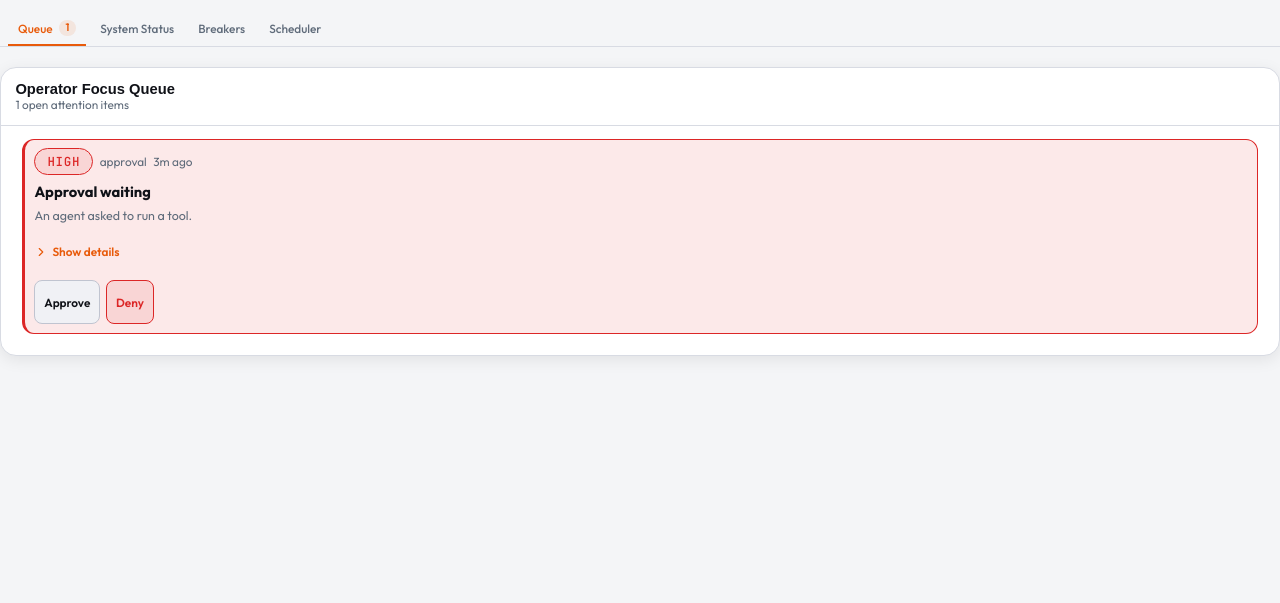
Test: FocusPage queue parity › expands details with recursive secret redaction across the rendered surface
Click the button "Show details" at (86, 252), box top-left (34, 230), bottom-right (1248, 274)
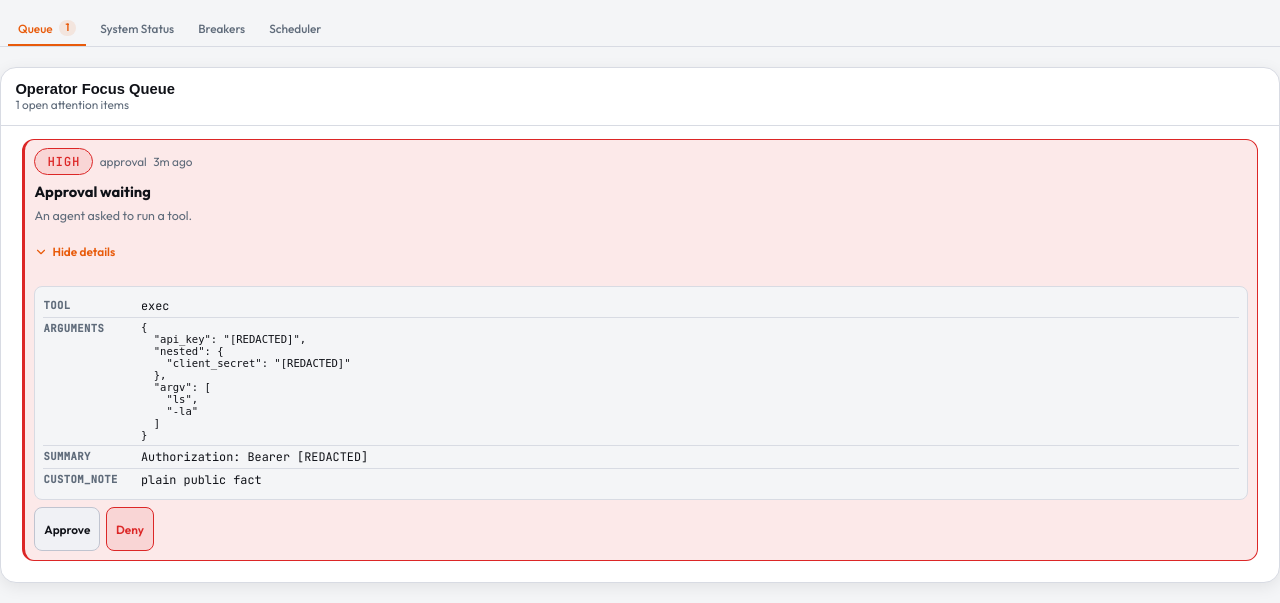
Now the element with class "mc-focus-context" is shown, box top-left (34, 286), bottom-right (1248, 500)
Now the element with class "mc-focus-context" shows "Tool", box top-left (43, 298), bottom-right (70, 312)
Now the element with class "mc-focus-context" shows "exec", box top-left (141, 298), bottom-right (169, 314)
Click the button "Hide details" at (84, 252), box top-left (34, 230), bottom-right (1248, 274)
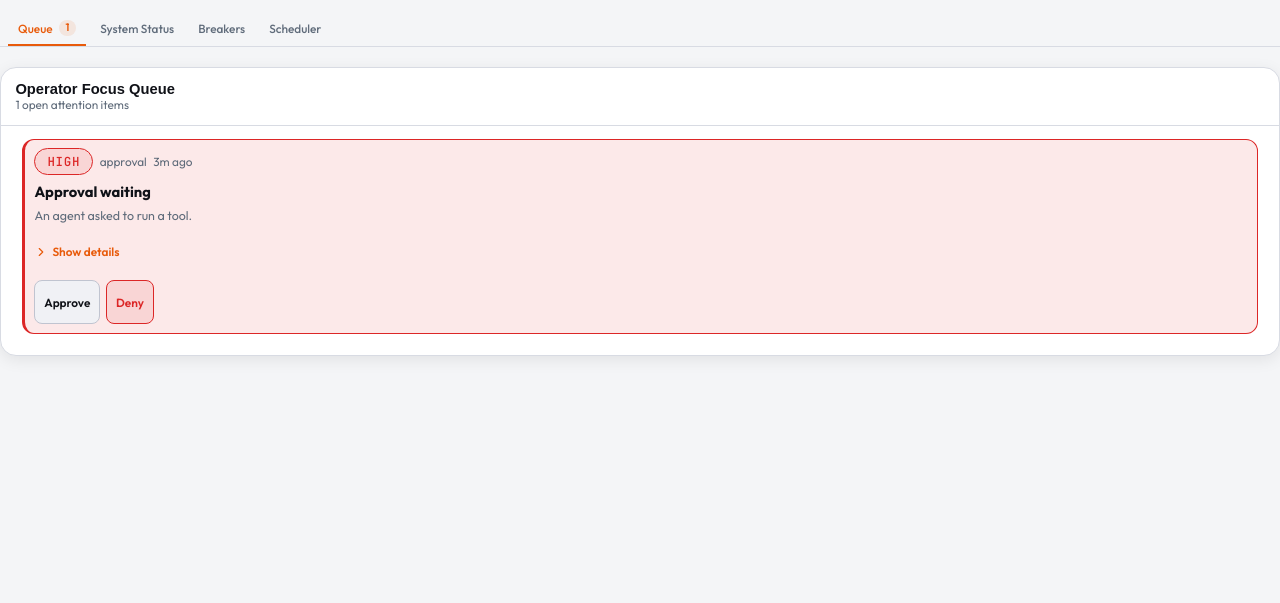
Now the element with class "mc-focus-context" is gone
